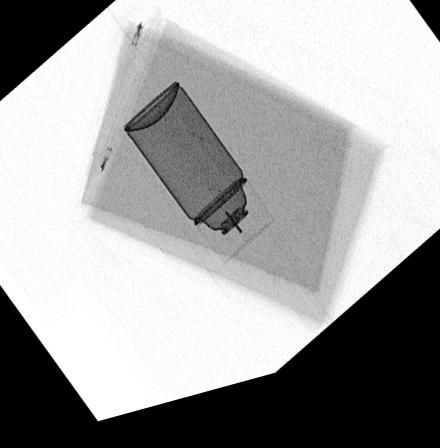Sprayer: (119, 87, 275, 274)
